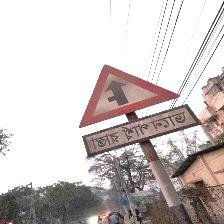Side-road-right: (78, 64, 196, 158)
